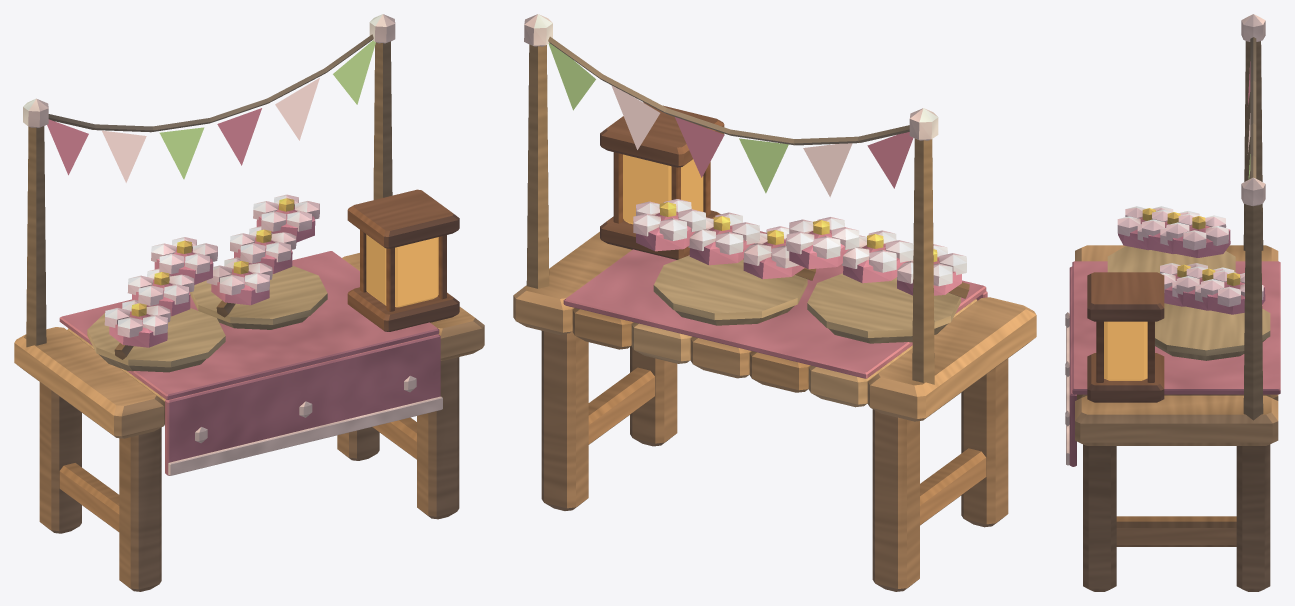
Rendered from season_table_spring.glb.
3 views of the same model, side by side, from view 1: azimuth 30°, elevation 25°; view 2: azimuth 150°, elevation 25°; view 3: azimuth 270°, elevation 25° (orthographic). The views are drawn at different scales.
Visible parts, largest first — view 1: Dorftisch · spring; view 2: Dorftisch · spring; view 3: Dorftisch · spring.
Part boxes in pixels (bbox=[...]): Dorftisch · spring: bbox=[14, 14, 484, 591]; Dorftisch · spring: bbox=[513, 14, 1036, 591]; Dorftisch · spring: bbox=[1065, 14, 1280, 591].
Bounding box in the file's own units: 1.67 × 1.88 × 0.8689.
Materials: 4 (3 with a texture image).
